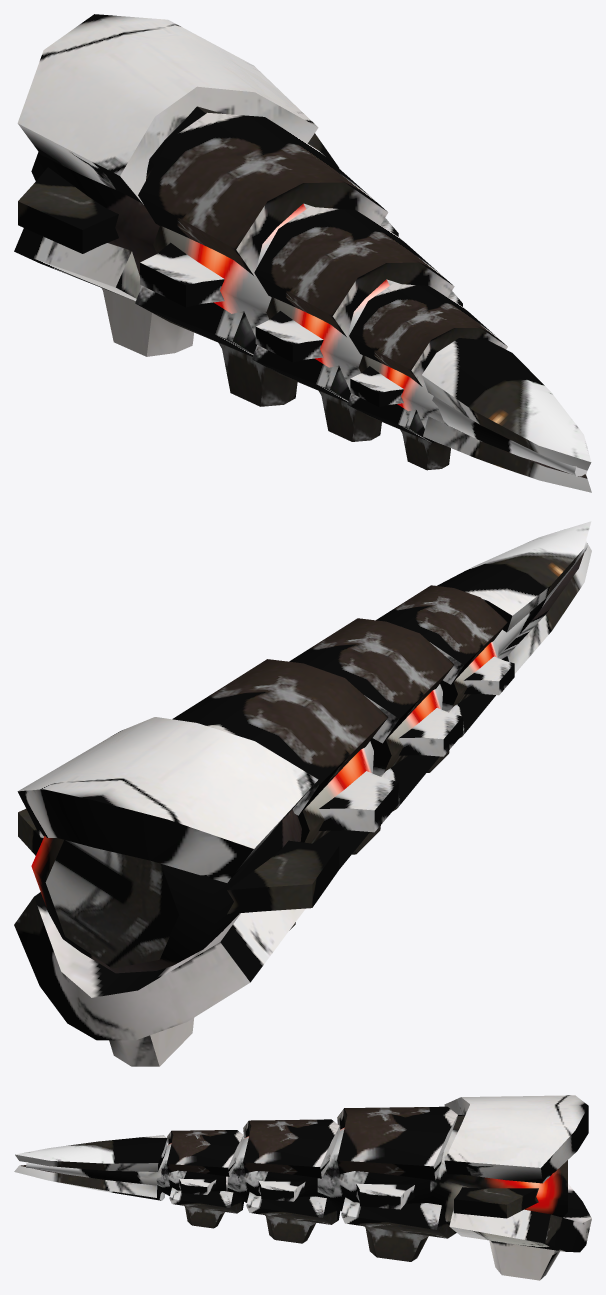
File: ship17h.fbx
The picture shows the model from 3 angles, top to bottom: view 1: azimuth 30°, elevation 25°; view 2: azimuth 150°, elevation 25°; view 3: azimuth 270°, elevation 25°; orthographic projection. The views are drawn at different scales.
Parts seen in each view (by area): view 1: PipelineFBX; view 2: PipelineFBX; view 3: PipelineFBX.
Boxes of the visible parts, bbox=[...] form: PipelineFBX: bbox=[14, 14, 591, 492]; PipelineFBX: bbox=[14, 521, 591, 1066]; PipelineFBX: bbox=[14, 1095, 591, 1280].
Size of the model in its own units: 96.16 by 92.25 by 283.
1 material, 1 textured.
